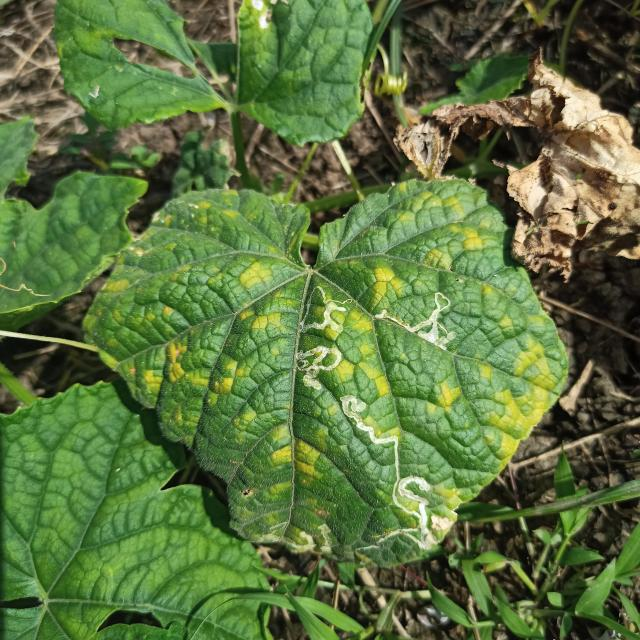disease_cucumber: (115, 187, 555, 559)
